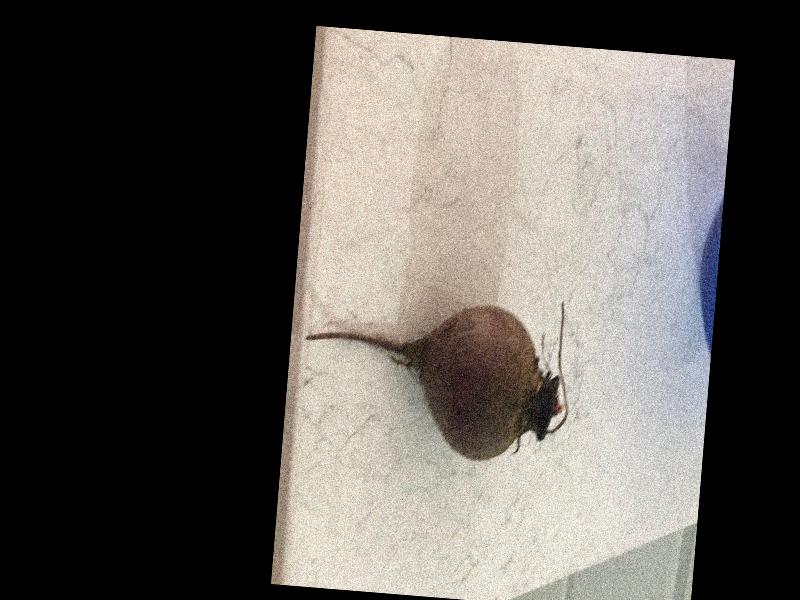Beet: (297, 279, 578, 466)
